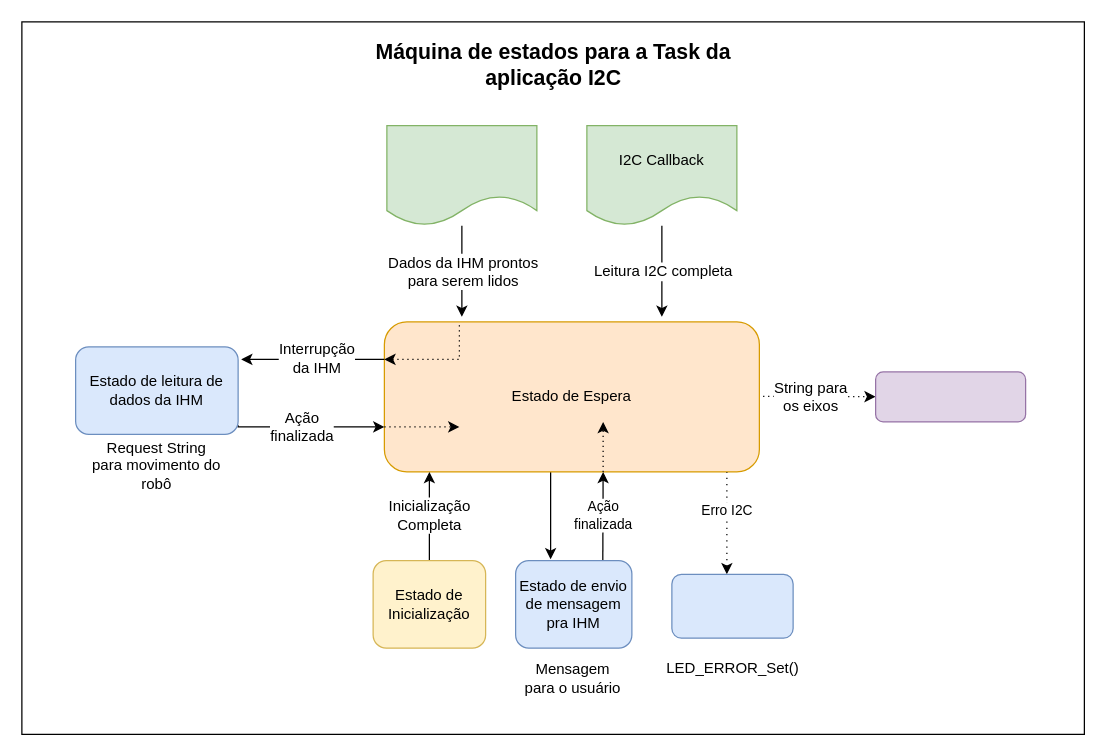
This 1106x756 diagram has some shape labels left out. Here are the shapes that lost their labels. From the top down, the centre of each, then its label:
point 461,175: Evento de Interrupção para Leitura de dados
point 950,396: UART Task
point 732,605: Estado de erro/inatividade
